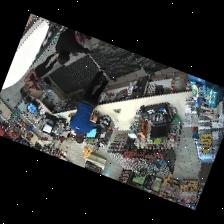person: (70, 68, 108, 142), (20, 52, 58, 96), (56, 28, 94, 64)
